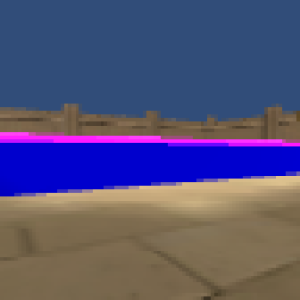platform: (2, 145, 294, 195)
ramp: (1, 130, 285, 145)
